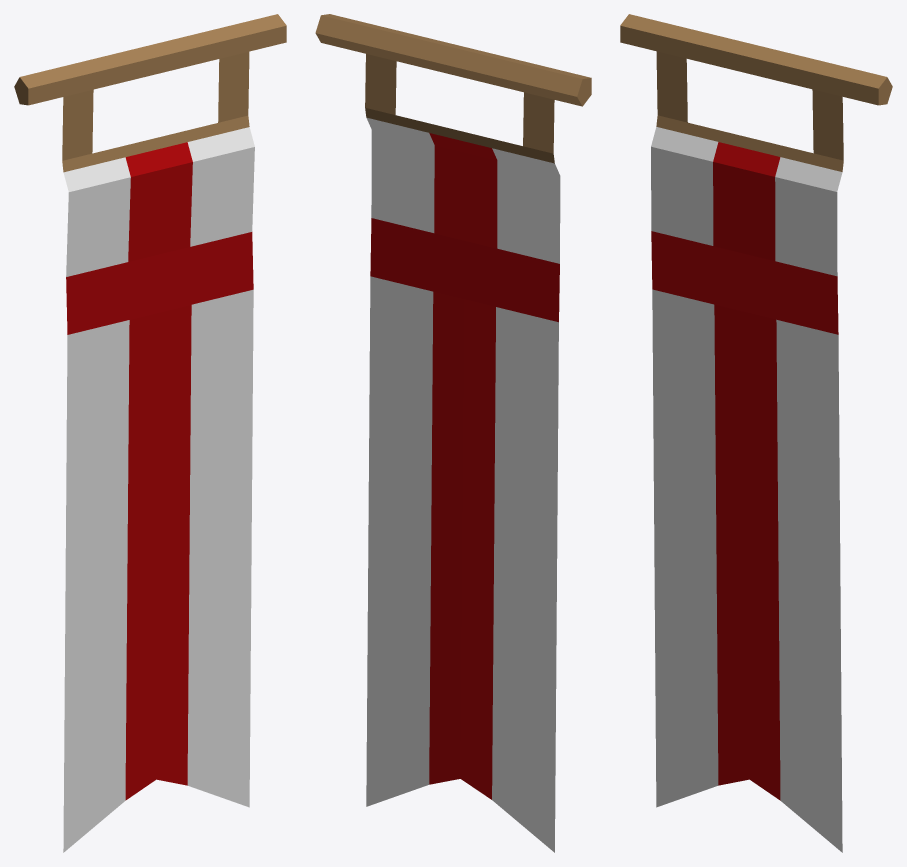
The model's file is castle-flag_01.fbx.
The picture shows the model from 3 angles, left to right: view 1: azimuth 30°, elevation 25°; view 2: azimuth 150°, elevation 25°; view 3: azimuth 330°, elevation 25°; orthographic projection.
Visible parts, largest first — view 1: castle-flag_01; view 2: castle-flag_01; view 3: castle-flag_01.
Boxes of the visible parts, <box> form: castle-flag_01: <box>14,14,286,852</box>; castle-flag_01: <box>315,14,591,852</box>; castle-flag_01: <box>620,14,892,852</box>.
Size of the model in its own units: 119 by 343 by 15.19.
